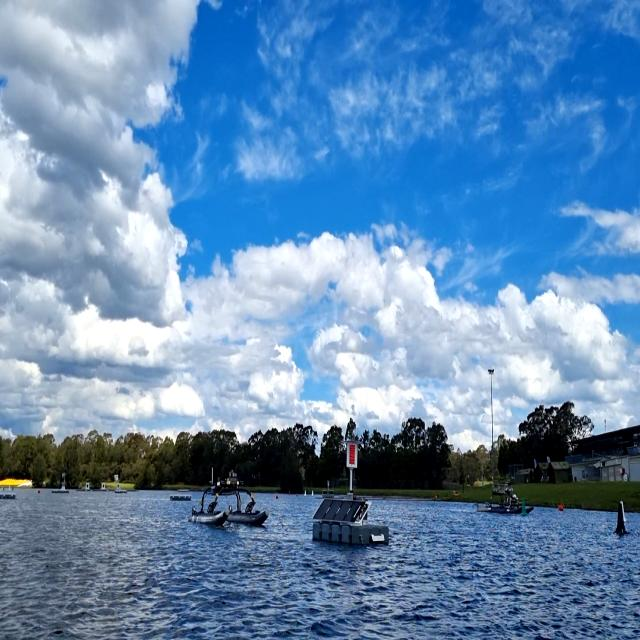led: (348, 444, 356, 466)
